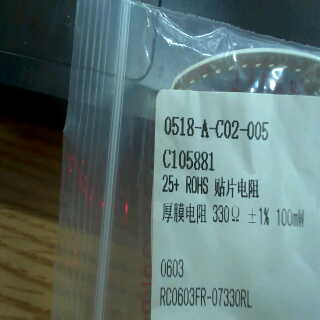330R: (210, 203, 245, 222)
